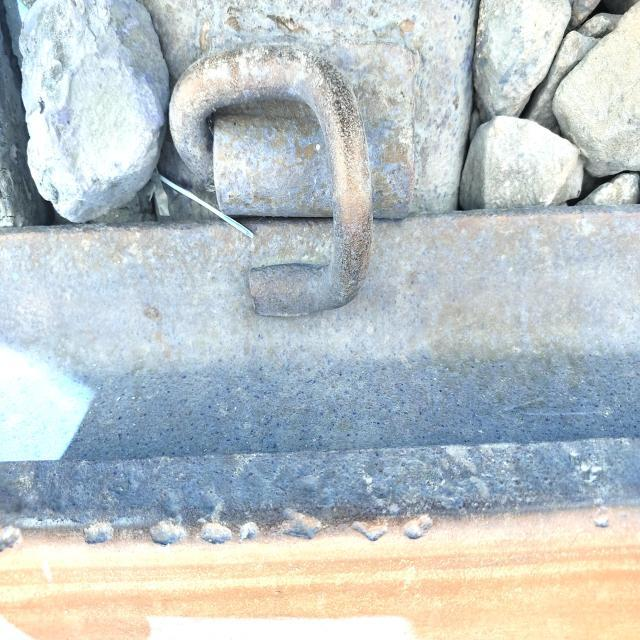Good Fasteners: (111, 22, 445, 352)
